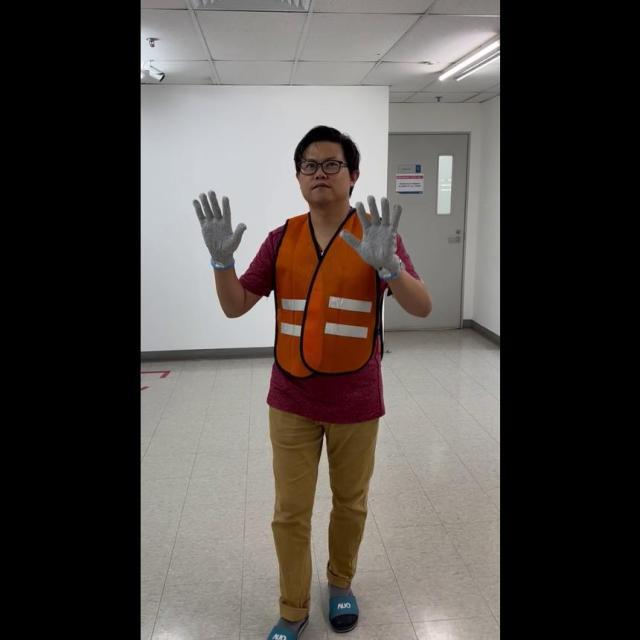gloved_hand: (347, 191, 406, 277), (191, 182, 246, 270)
